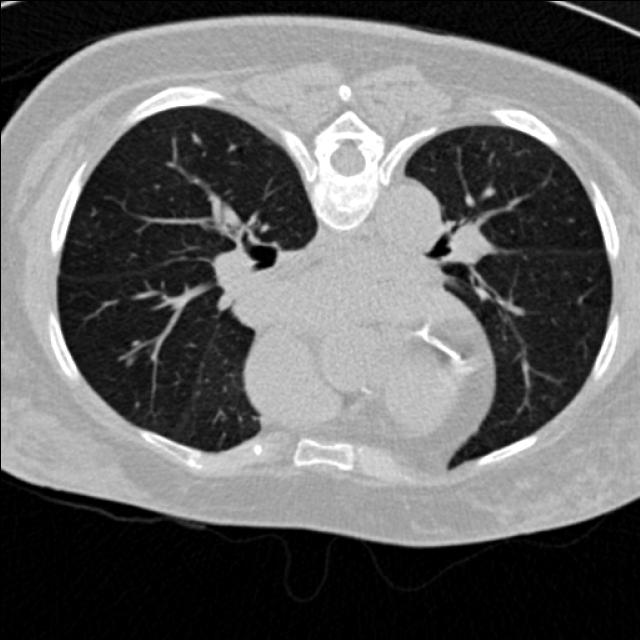nodule: (115, 348, 140, 372)
